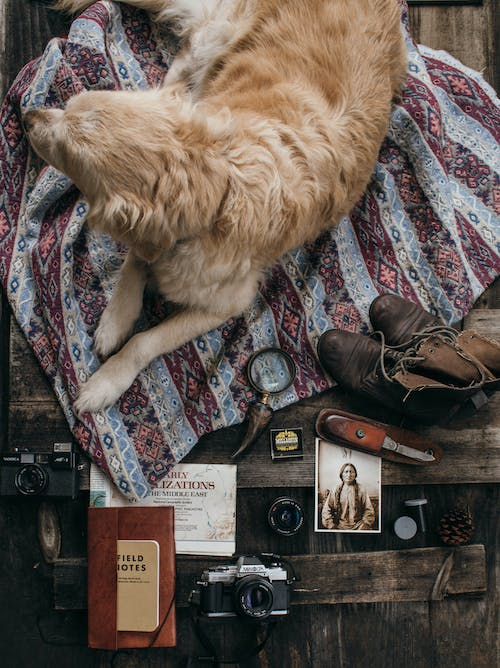knife: (381, 433, 441, 465)
